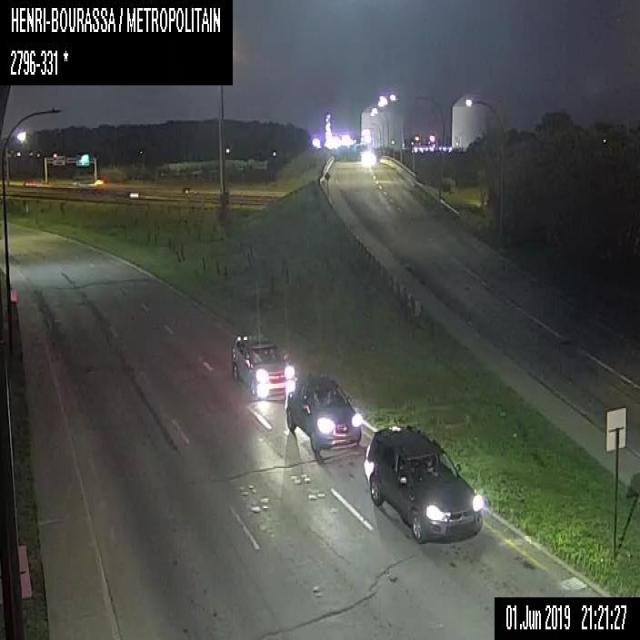vehicle: (364, 424, 482, 542), (285, 374, 363, 456), (232, 333, 295, 398)
